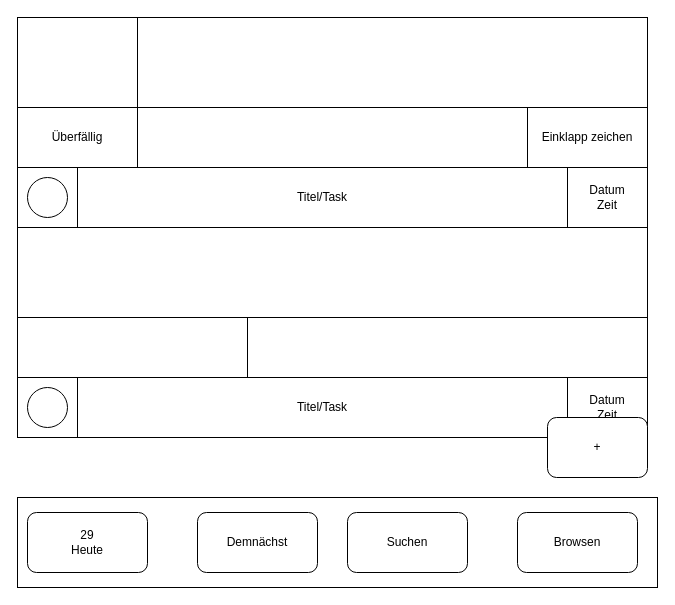
Image size: 675x605. Some labels were removed from this diagram. Each missing label, with the box of its shape:
29. Jan. - Mittwoch: (16, 316, 248, 378)
Heute x Aufgaben: (16, 16, 138, 108)
